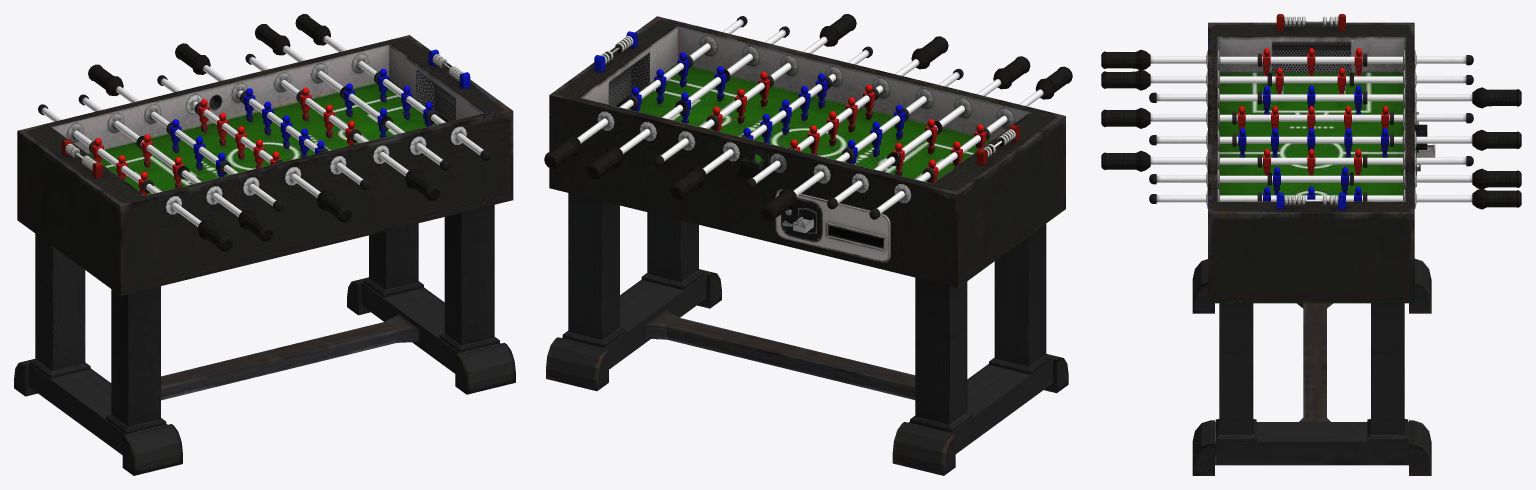
Rendered from foosball_table.glb.
The picture shows the model from 3 angles, left to right: view 1: azimuth 30°, elevation 25°; view 2: azimuth 150°, elevation 25°; view 3: azimuth 270°, elevation 25°; orthographic projection. The views are drawn at different scales.
Visible parts, largest first — view 1: foosball_0_n0; view 2: foosball_0_n0; view 3: foosball_0_n0.
Part boxes in pixels (x1,y1,x2,y2): foosball_0_n0: (14, 14, 515, 475); foosball_0_n0: (544, 14, 1072, 475); foosball_0_n0: (1101, 14, 1521, 475).
Size of the model in its own units: 1.4 by 0.95 by 1.3.
Materials: 1 (1 with a texture image).
